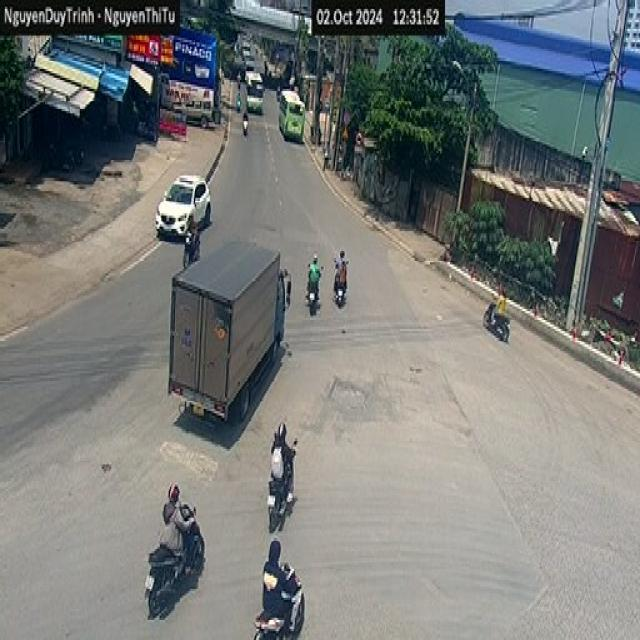bus: (277, 89, 305, 142), (243, 66, 267, 110)
car: (155, 173, 211, 238)
container-truck: (165, 233, 289, 422)
motorcycle: (140, 538, 212, 612), (251, 573, 311, 640), (266, 436, 298, 531), (481, 300, 510, 342), (306, 275, 322, 312), (334, 269, 349, 306), (240, 123, 248, 145)
person: (255, 538, 300, 636), (161, 482, 199, 576), (262, 421, 302, 471), (306, 251, 322, 300), (332, 249, 348, 295), (497, 278, 511, 326), (243, 101, 250, 129)
truck: (159, 27, 221, 126)
